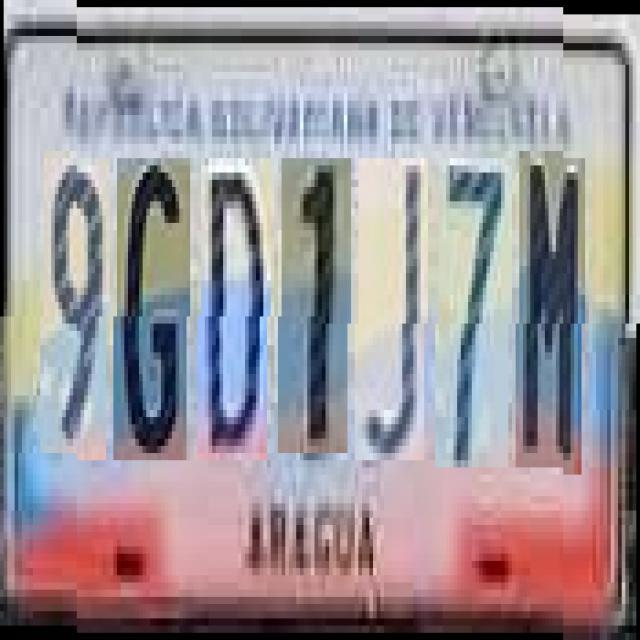1: (282, 158, 352, 453)
7: (439, 158, 512, 468)
9: (44, 158, 110, 460)
D: (201, 158, 271, 460)
G: (117, 158, 190, 460)
J: (358, 158, 428, 460)
M: (519, 151, 585, 467)
